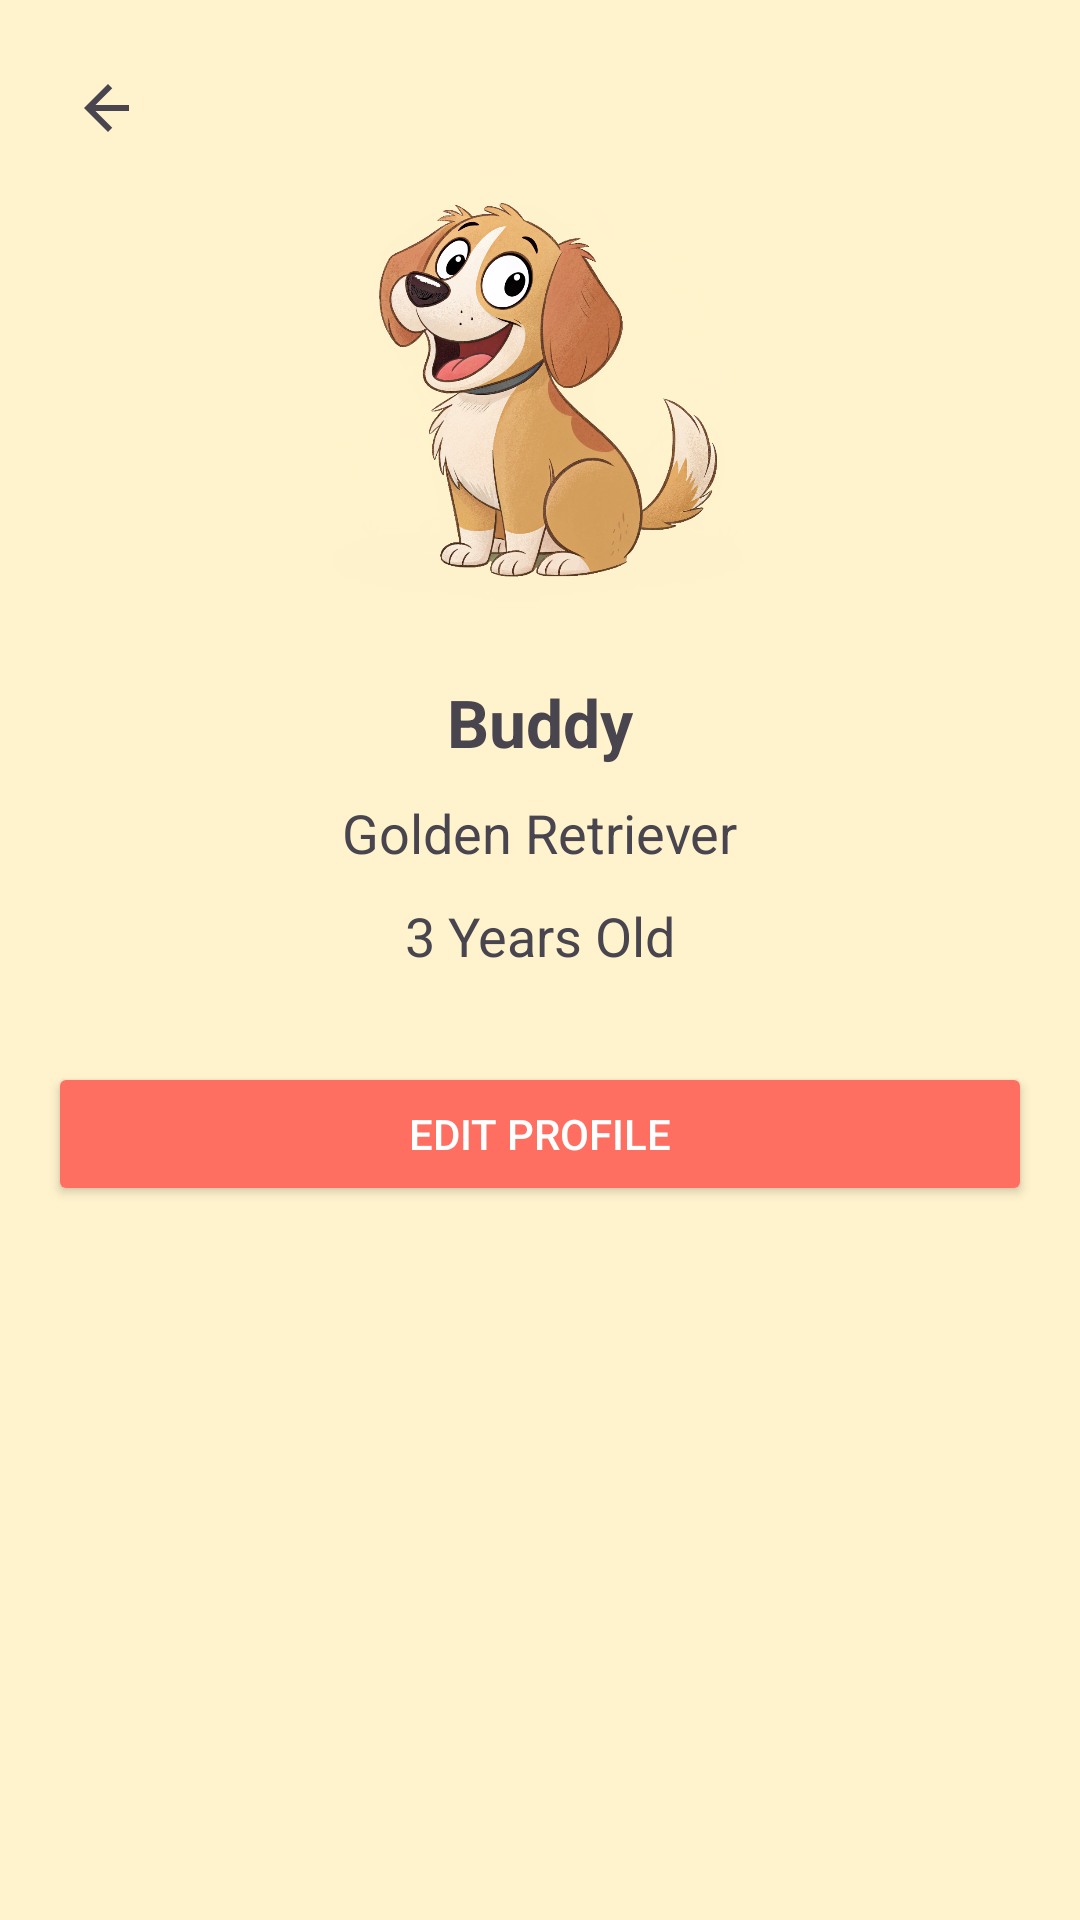

Screen size 1080px×1920px. Icon name, then its box in pixels as region(x1, y1, x2, y2):
Back: region(84, 84, 129, 132)
